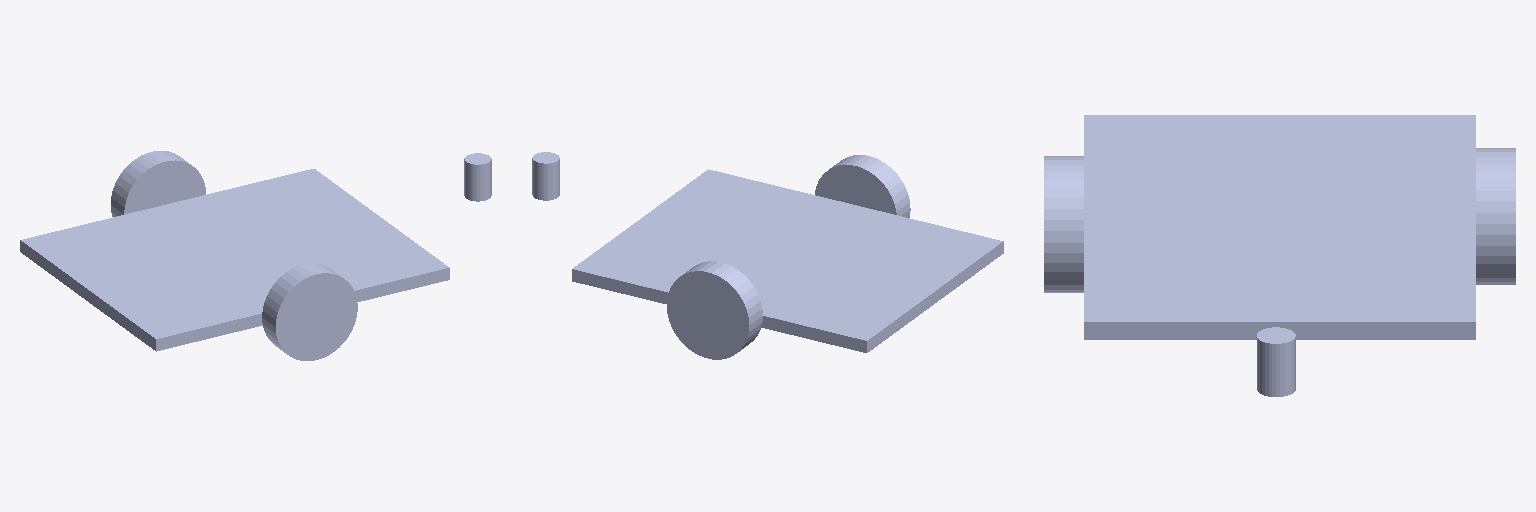
robot.urdf — zdp_bot:
<?xml version="1.0" encoding="utf-8"?>
<!-- This URDF was automatically created by SolidWorks to URDF Exporter! Originally created by [author] ([email redacted]) 
     Commit Version: 1.6.0-1-g15f4949  Build Version: 1.6.7594.29634
     For more information, please see http://wiki.ros.org/sw_urdf_exporter -->
<robot
  name="zdp_bot">
  <link name="base_footprint">
            <visual>
                <origin xyz="0 0 0" rpy="0 0 0" />
                <geometry>
                    <box size="0.001 0.001 0.001" />
                </geometry>
            </visual>
  </link>

  <link
    name="base_link">
    <inertial>
      <origin
        xyz="-0.00037294 -1.0061E-16 0.0016162"
        rpy="0 0 0" />
      <mass
        value="5.2315" />
      <inertia
        ixx="0.055139"
        ixy="1.6596E-17"
        ixz="-1.3762E-19"
        iyy="0.086484"
        iyz="4.8736E-18"
        izz="0.13834" />
    </inertial>
    <visual>
      <origin
        xyz="0 0 0"
        rpy="0 0 0" />
      <geometry>
        <mesh
          filename="package://zdp_bot/meshes/base_link.STL" />
      </geometry>
      <material
        name="">
        <color
          rgba="0.79216 0.81961 0.93333 1" />
      </material>
    </visual>
    <collision>
      <origin
        xyz="0 0 0"
        rpy="0 0 0" />
      <geometry>
        <mesh
          filename="package://zdp_bot/meshes/base_link.STL" />
      </geometry>
    </collision>
  </link>
  <link
    name="Laser_Link">
    <inertial>
      <origin
        xyz="0 0 0"
        rpy="0 0 0" />
      <mass
        value="0.075398" />
      <inertia
        ixx="3.0159E-05"
        ixy="-8.0733E-22"
        ixz="8.4703E-22"
        iyy="3.0159E-05"
        iyz="-1.2705E-21"
        izz="1.508E-05" />
    </inertial>
    <visual>
      <origin
        xyz="0 0 0"
        rpy="0 0 0" />
      <geometry>
        <mesh
          filename="package://zdp_bot/meshes/Laser_Link.STL" />
      </geometry>
      <material
        name="">
        <color
          rgba="0.79216 0.81961 0.93333 1" />
      </material>
    </visual>
    <collision>
      <origin
        xyz="0 0 0"
        rpy="0 0 0" />
      <geometry>
        <mesh
          filename="package://zdp_bot/meshes/Laser_Link.STL" />
      </geometry>
    </collision>
  </link>
  
  <link
    name="camera_link">
    <visual>
      <origin
        xyz="0 0 0"
        rpy="0 0 0" />
      <geometry>
        <mesh
          filename="package://realsense2_description/meshes/d415.STL" />
      </geometry>
      <material
        name="">
        <color
          rgba="0.79216 0.81961 0.93333 1" />
      </material>
    </visual>
  </link>

  <joint name="base_footprint_joint" type="fixed">
            <origin xyz="0 0 0.07" rpy="0 0 0" />        
            <parent link="base_footprint"/>
            <child link="base_link" />
  </joint>
  
  <joint
    name="laser"
    type="fixed">
    <origin
      xyz="0.411331577755572 -0.00381190016736267 0.04"
      rpy="0 0 0" />
    <parent
      link="base_link" />
    <child
      link="Laser_Link" />
    <axis
      xyz="0 0 0" />
  </joint>
  
  <joint name="camera_joint" type="fixed">
    <parent link="base_link"/>
    <child link="camera_link"/>
    <origin xyz="-0.364 0 0.15"
	    rpy="0 0 3.141592654"/>
  </joint>
</robot>

--- Render facts (derived) ---
Views: 3 orthographic renders of the robot side by side, from view 1: azimuth 30°, elevation 25°; view 2: azimuth 150°, elevation 25°; view 3: azimuth 270°, elevation 25°.
Model zdp_bot with 4 links and 3 joints (3 fixed), rooted at base_footprint, posed every joint at zero.
Links seen in each view (by area): view 1: base_link, Laser_Link; view 2: base_link, Laser_Link; view 3: base_link, Laser_Link.
Boxes of the visible links, x1=… form: base_link: x1=20, y1=151, x2=449, y2=360; Laser_Link: x1=464, y1=153, x2=491, y2=201; base_link: x1=572, y1=155, x2=1003, y2=359; Laser_Link: x1=532, y1=152, x2=559, y2=200; base_link: x1=1044, y1=115, x2=1515, y2=339; Laser_Link: x1=1257, y1=327, x2=1295, y2=396.
Size in the robot's own frame: 0.6813 by 0.48 by 0.1504 metres.
2 mesh visuals loaded from 3 distinct referenced files (2 binary STL); not drawn: 1 (reference not matched to a file when rendering).